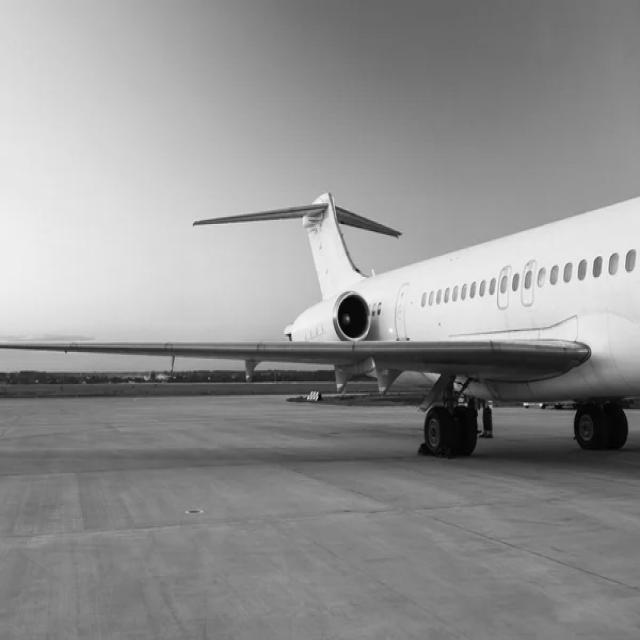Aircraft: (39, 181, 640, 466)
